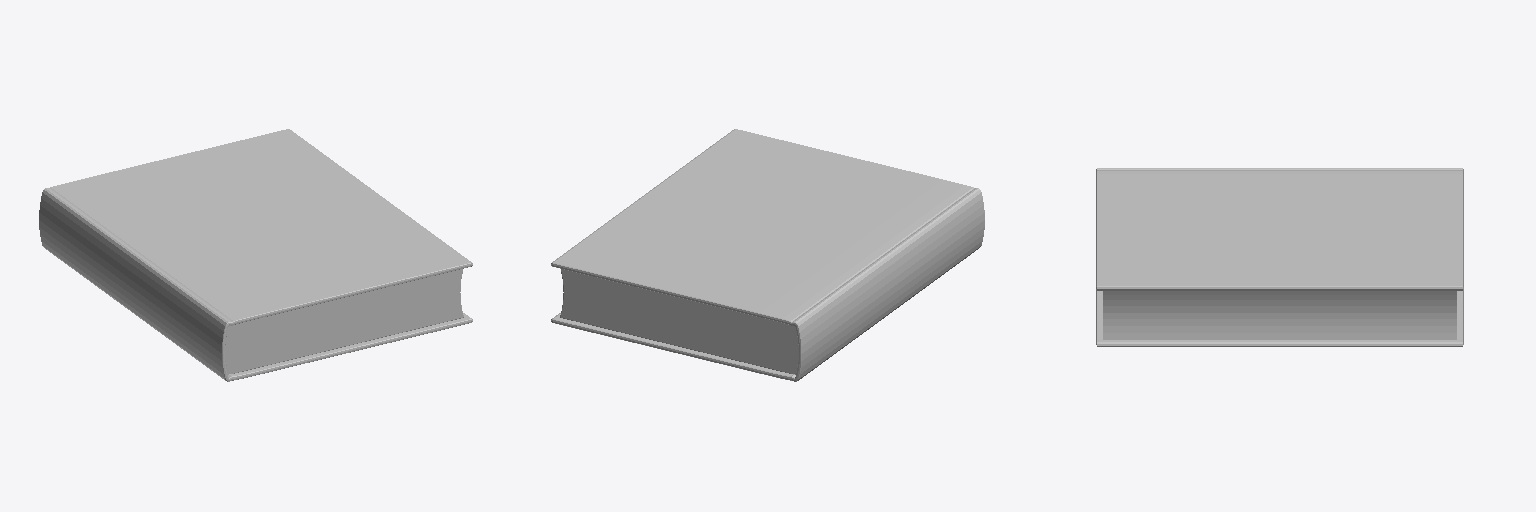
Rendered from RecipeBookClosed.obj.
The picture shows the model from 3 angles: view 1: azimuth 30°, elevation 25°; view 2: azimuth 150°, elevation 25°; view 3: azimuth 270°, elevation 25°; orthographic projection.
Parts seen in each view (by area): view 1: book_cover, pages_pages_pages.001, title_Text.001; view 2: book_cover, pages_pages_pages.001, title_Text.001; view 3: book_cover, pages_pages_pages.001, title_Text.001.
Boxes of the visible parts, x1=… form: book_cover: x1=39, y1=129, x2=472, y2=381; pages_pages_pages.001: x1=225, y1=269, x2=463, y2=373; title_Text.001: x1=135, y1=173, x2=309, y2=219; book_cover: x1=551, y1=129, x2=984, y2=381; pages_pages_pages.001: x1=560, y1=269, x2=798, y2=373; title_Text.001: x1=641, y1=228, x2=804, y2=280; book_cover: x1=1096, y1=168, x2=1463, y2=346; pages_pages_pages.001: x1=1103, y1=291, x2=1456, y2=339; title_Text.001: x1=1325, y1=193, x2=1386, y2=267.
Bounding box in the file's own units: 0.3189 × 0.0736 × 0.4038.